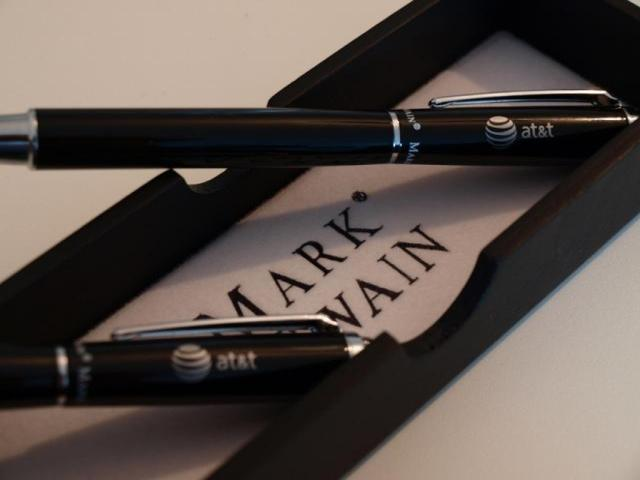PEN: (0, 79, 640, 194), (5, 304, 380, 417)
